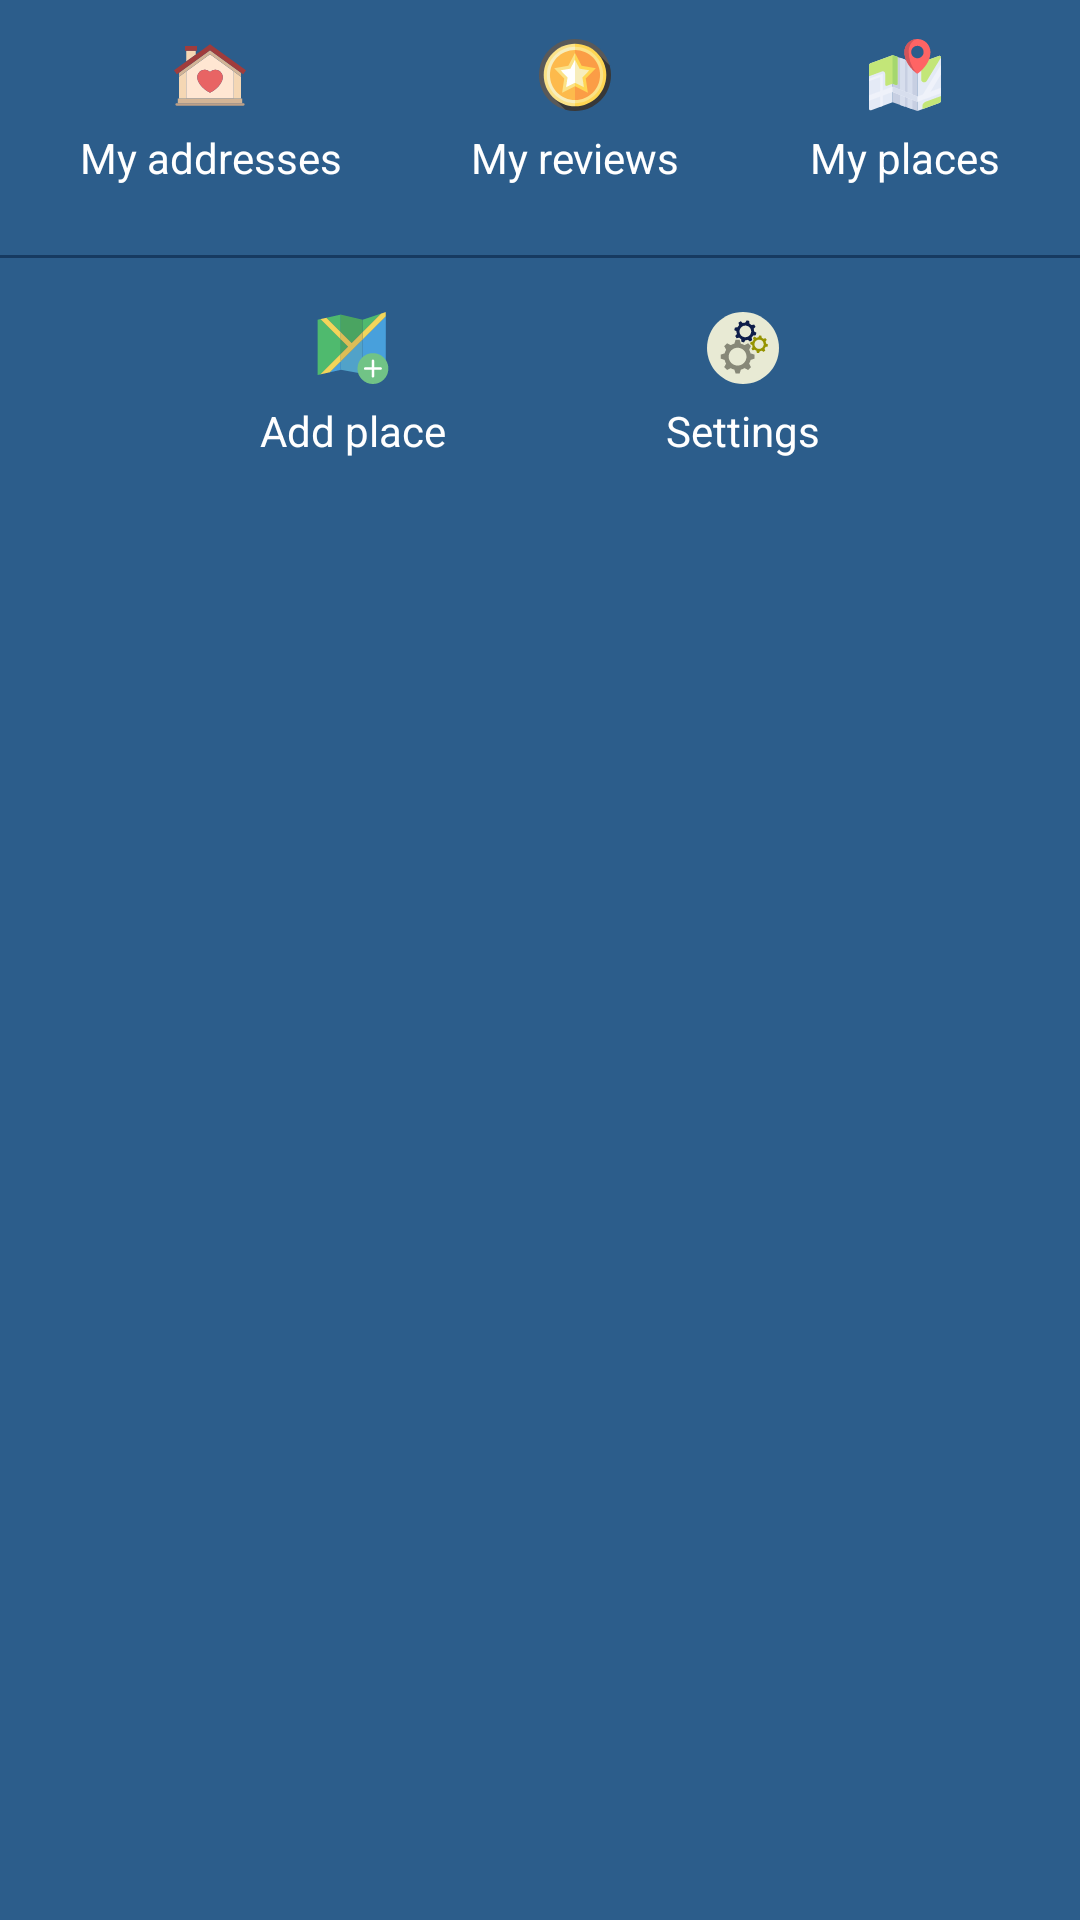

Named icons in this screenshot (1080 × 1920) and their bounding boxes, [left=x1, top=y1, right=x2, bottom=y2]:
house: [left=174, top=44, right=246, bottom=106]
map add: [left=317, top=312, right=389, bottom=384]
map locations: [left=869, top=39, right=941, bottom=111]
star: [left=539, top=39, right=611, bottom=111]
